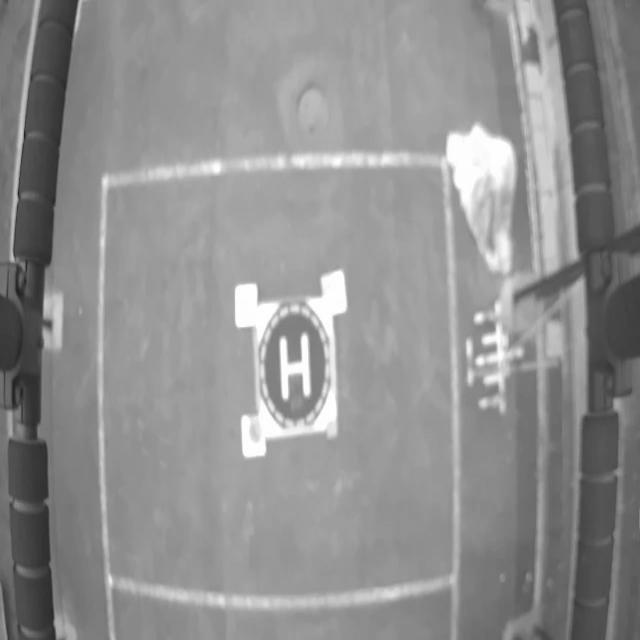Helipad: (279, 332, 311, 401)
